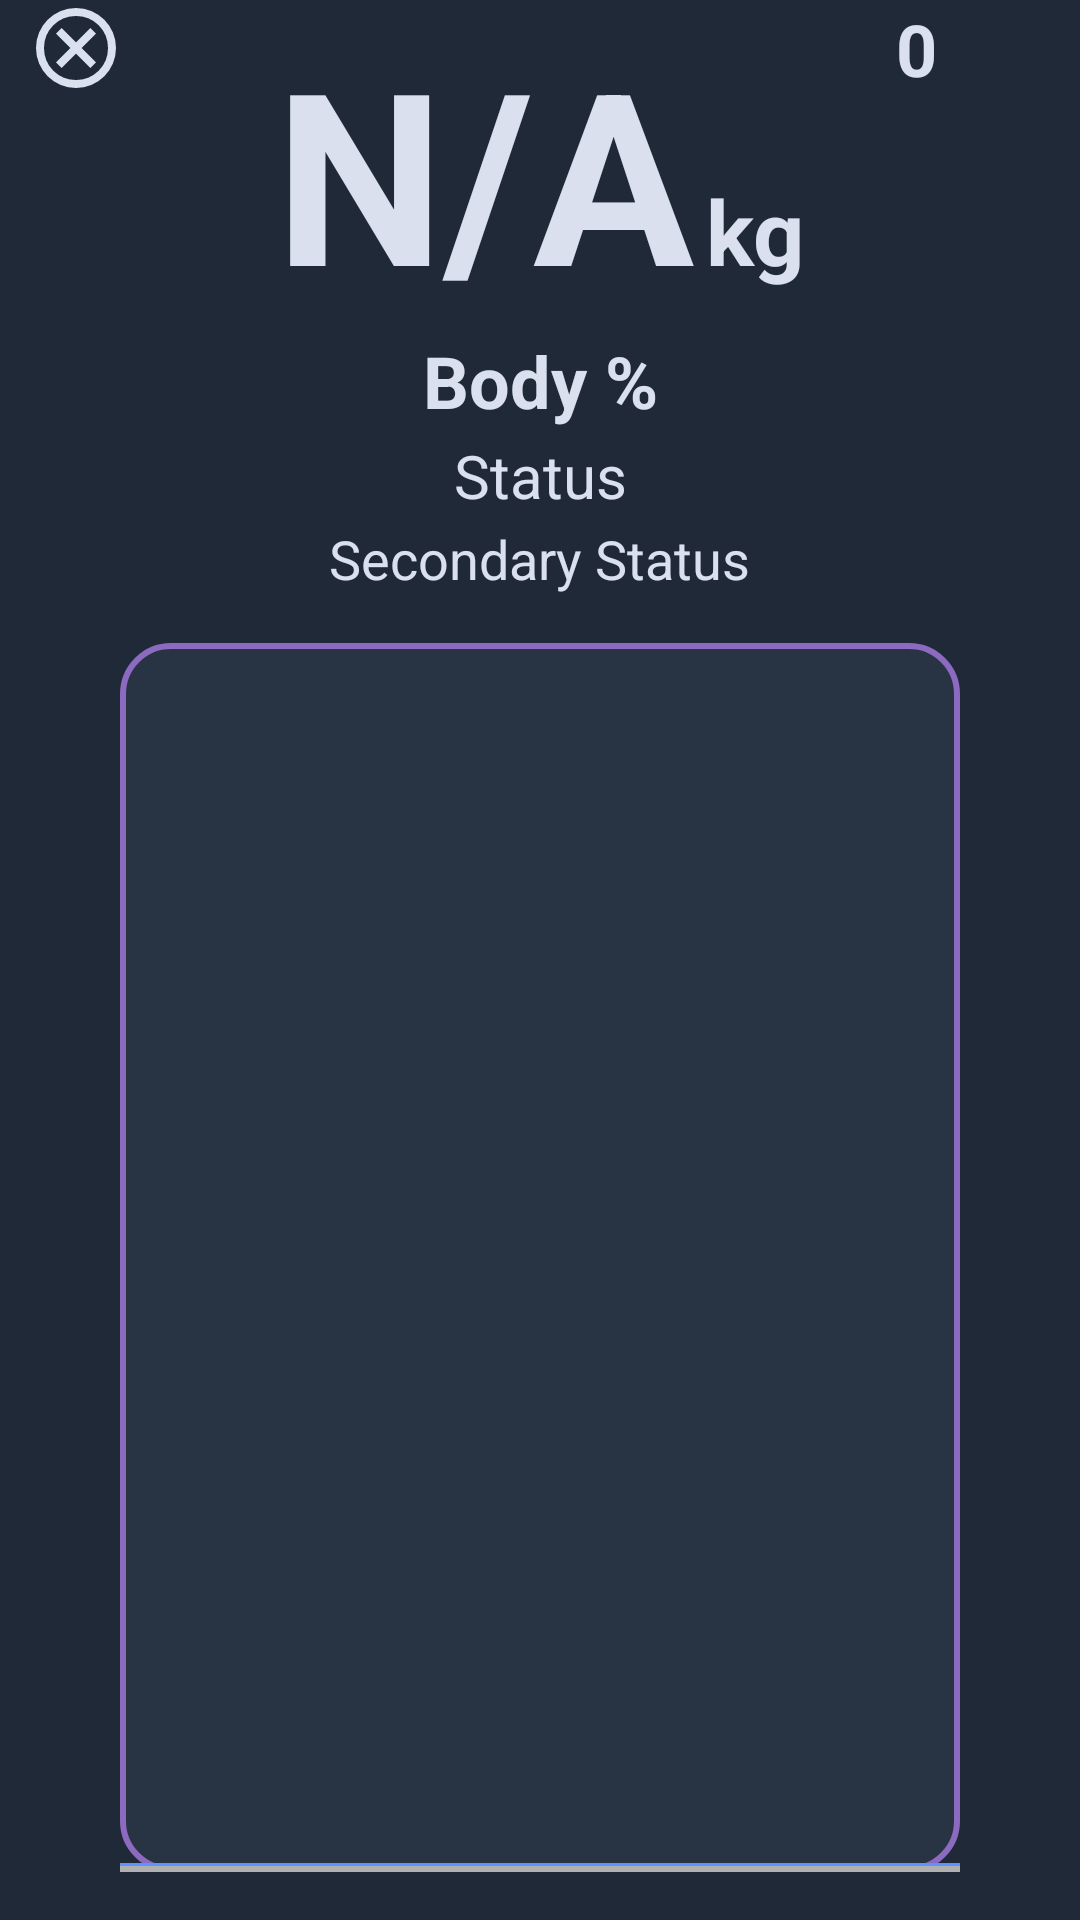

Icons on this 1080*1920 Android screen, each with its box as box=[x1, y1, x2, y2]:
Stop Workout: box=[36, 8, 116, 88]
